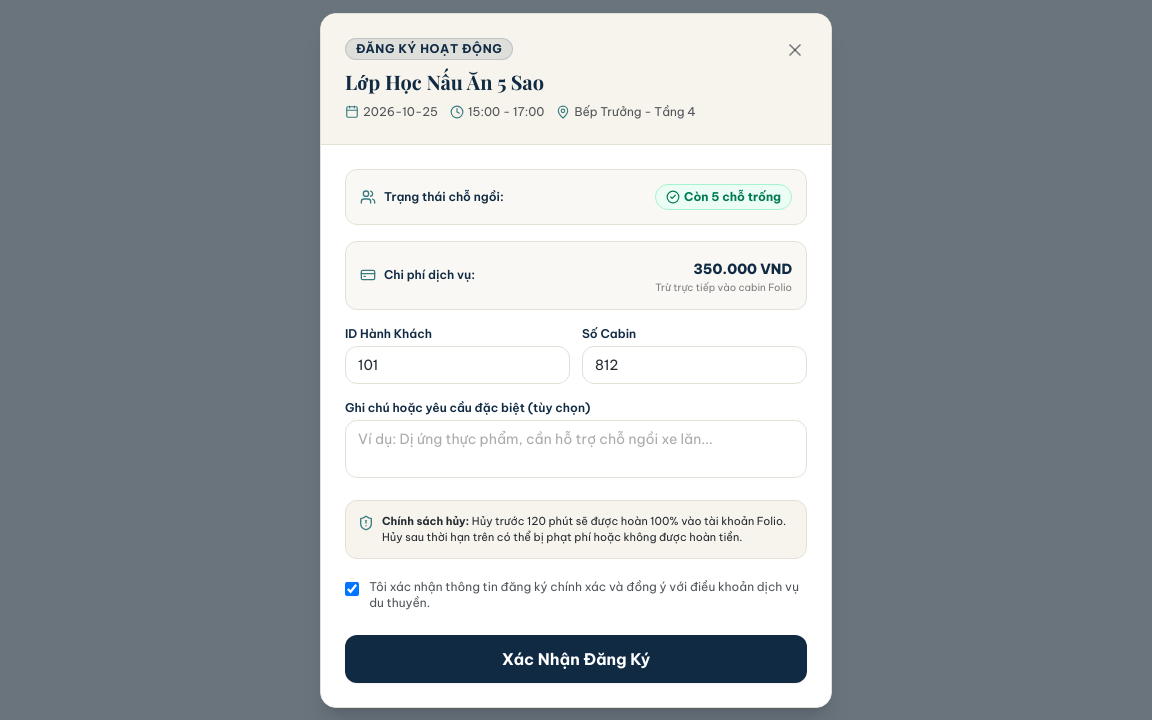
Test: ActivityRegistrationModal Component Tests (KAN-372) › đăng ký thành công và hiển thị kết quả xác nhận
What coordinates should you click on to do the following:
click the button "Xác Nhận Đăng Ký"
I would click on:
 (576, 658)
Its box is [345, 634, 807, 682].
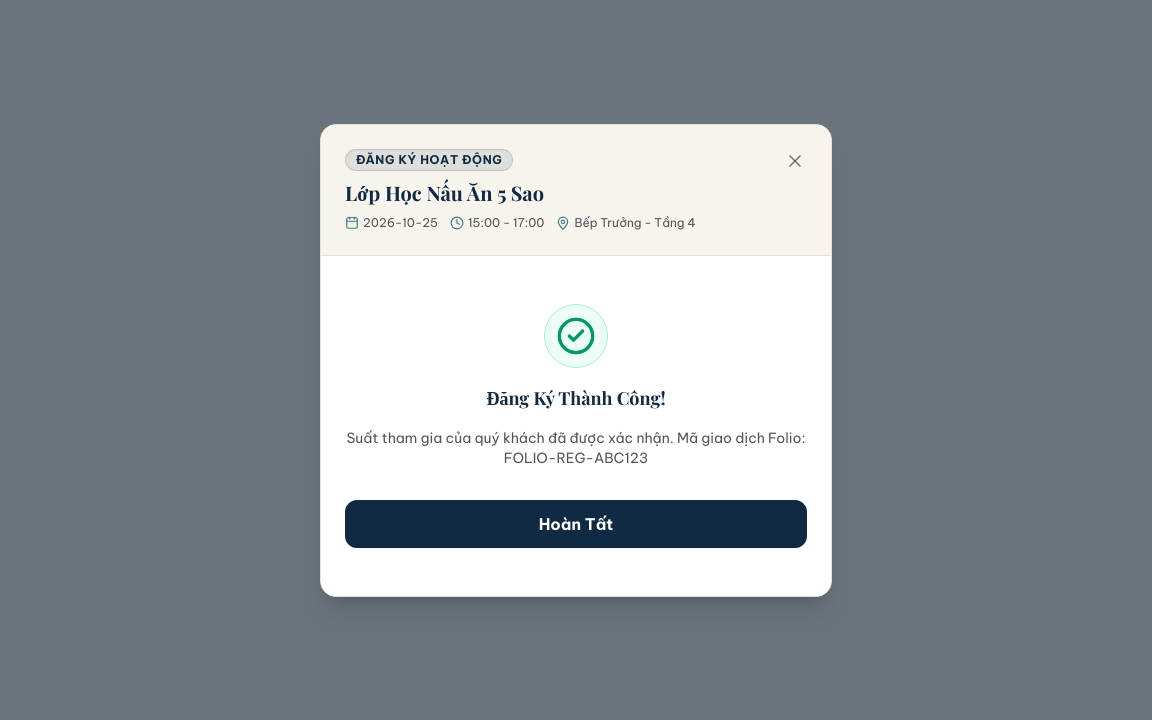
Expected: the heading "Đăng Ký Thành Công!" is shown, [486, 386, 666, 410]
Expected: the text "FOLIO-REG-ABC123" is shown, [346, 428, 806, 466]
